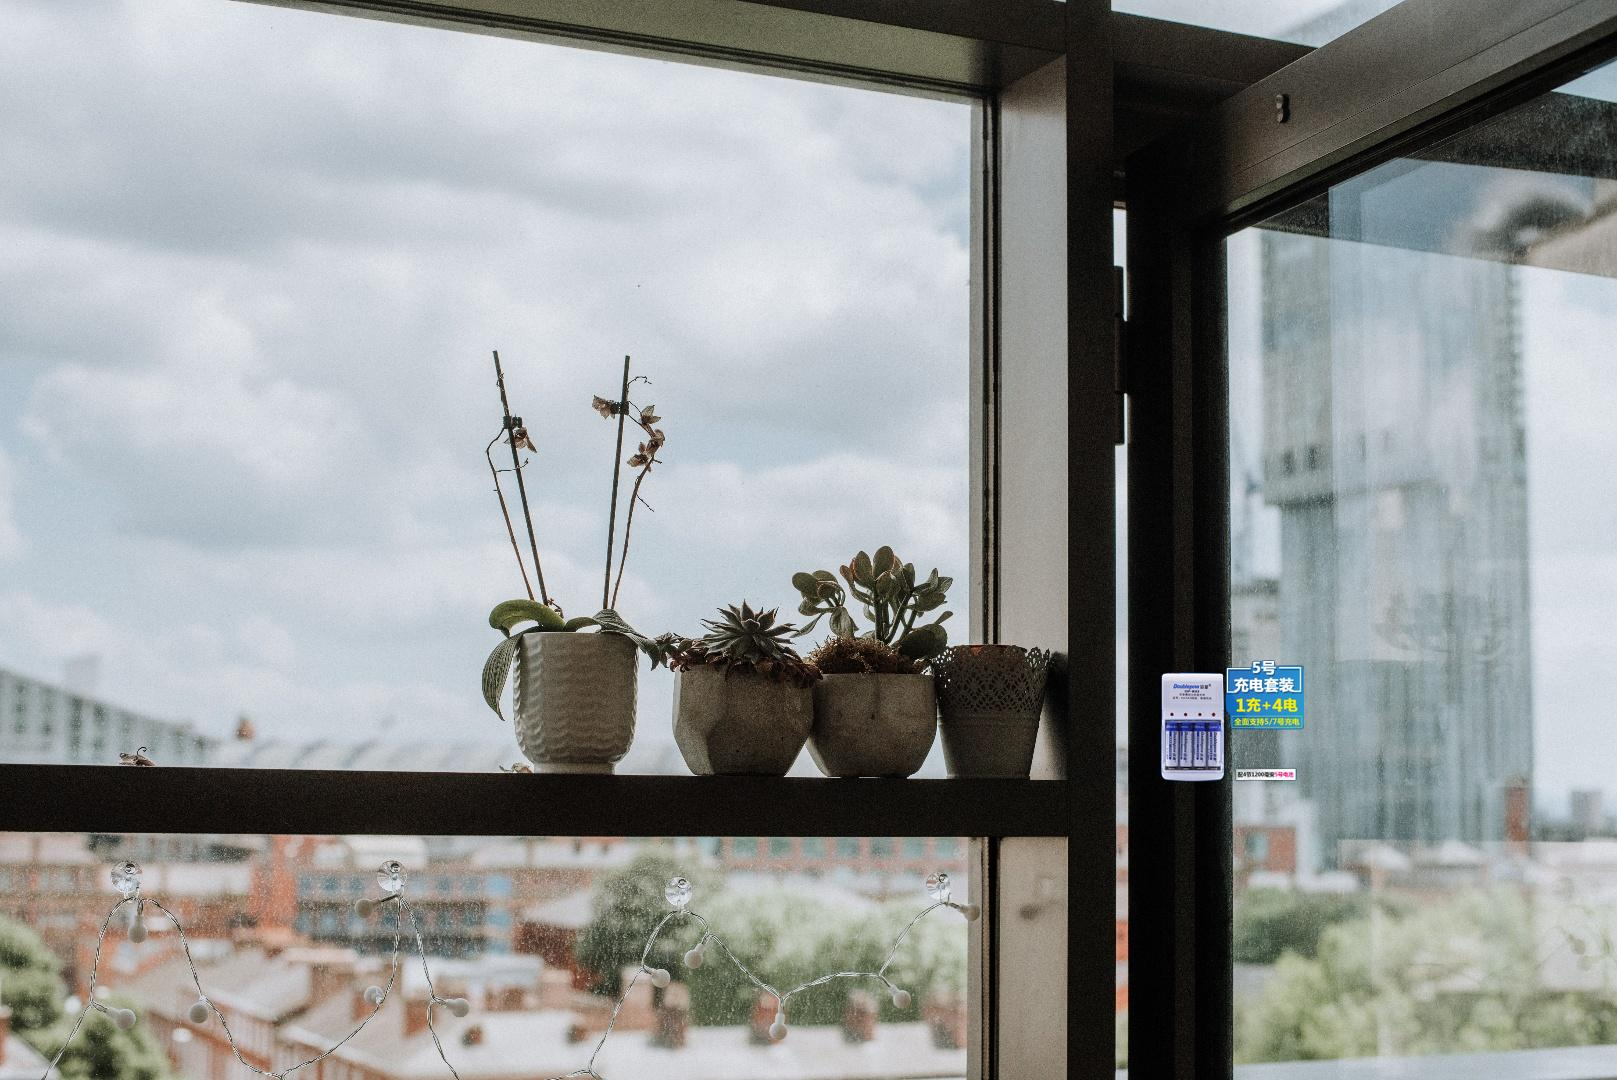battery: (1158, 655, 1304, 785)
